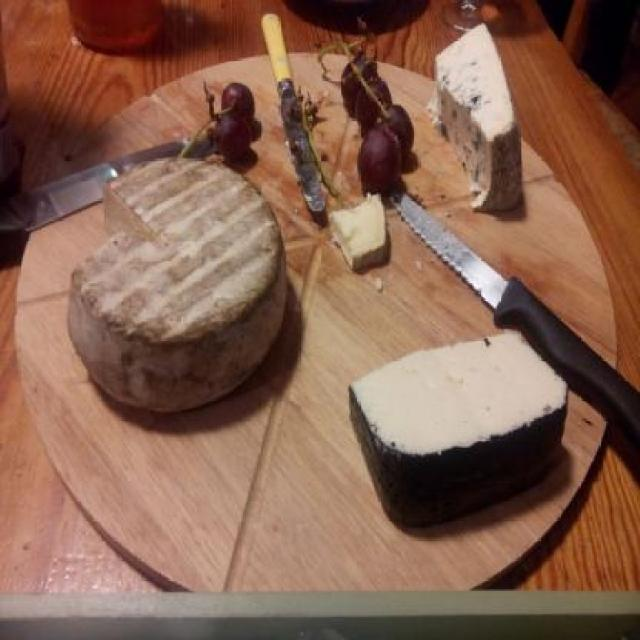Cheese: (66, 156, 292, 414), (348, 326, 570, 528), (427, 20, 525, 212), (328, 194, 384, 271)
